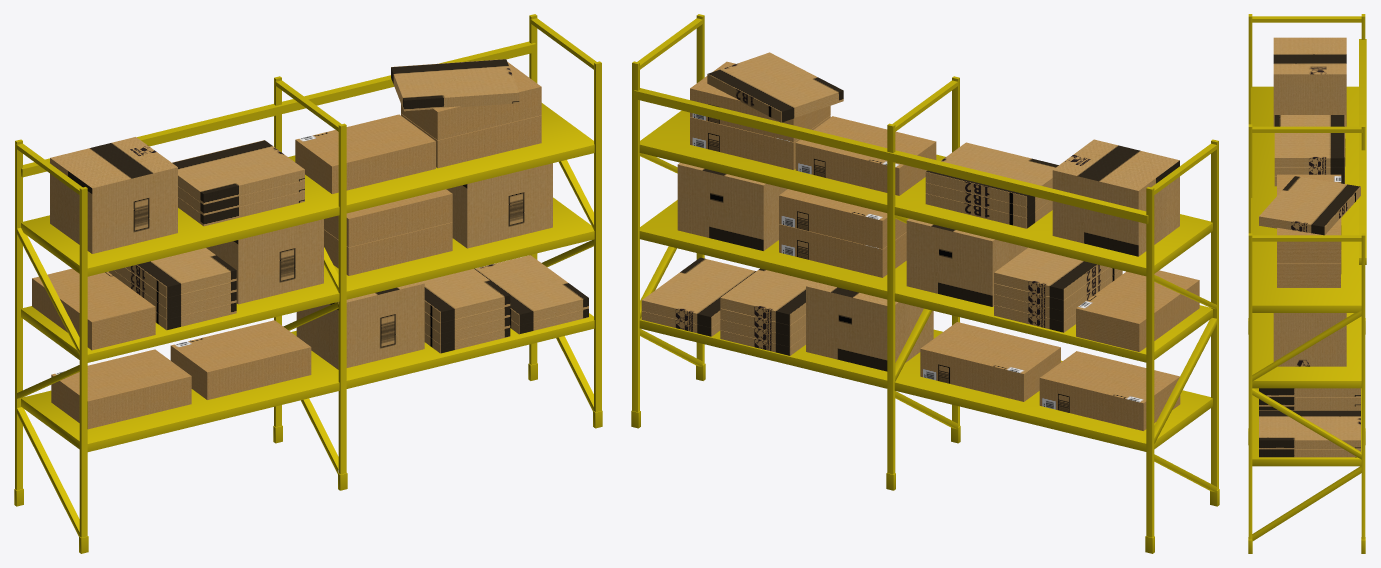
The model's file is rack_e.glb.
3 renders of one model, left to right at view 1: azimuth 30°, elevation 25°; view 2: azimuth 150°, elevation 25°; view 3: azimuth 270°, elevation 25°, orthographic. The views are drawn at different scales.
Visible parts, largest first — view 1: aws_robomaker_warehouse_ShelfE_01_visual-lib, aws_robomaker_warehouse_ShelfE_01_visual-lib_2, aws_robomaker_warehouse_ShelfE_01_visual-lib_1, aws_robomaker_warehouse_ShelfE_01_visual-lib_3; view 2: aws_robomaker_warehouse_ShelfE_01_visual-lib, aws_robomaker_warehouse_ShelfE_01_visual-lib_2, aws_robomaker_warehouse_ShelfE_01_visual-lib_1, aws_robomaker_warehouse_ShelfE_01_visual-lib_3; view 3: aws_robomaker_warehouse_ShelfE_01_visual-lib, aws_robomaker_warehouse_ShelfE_01_visual-lib_3, aws_robomaker_warehouse_ShelfE_01_visual-lib_1, aws_robomaker_warehouse_ShelfE_01_visual-lib_2.
Part boxes in pixels (x1,y1,x2,y2): aws_robomaker_warehouse_ShelfE_01_visual-lib: [14, 14, 602, 553]; aws_robomaker_warehouse_ShelfE_01_visual-lib_2: [32, 62, 541, 429]; aws_robomaker_warehouse_ShelfE_01_visual-lib_1: [50, 137, 552, 369]; aws_robomaker_warehouse_ShelfE_01_visual-lib_3: [108, 59, 588, 353]; aws_robomaker_warehouse_ShelfE_01_visual-lib: [631, 14, 1219, 553]; aws_robomaker_warehouse_ShelfE_01_visual-lib_2: [690, 61, 1199, 430]; aws_robomaker_warehouse_ShelfE_01_visual-lib_1: [677, 139, 1179, 371]; aws_robomaker_warehouse_ShelfE_01_visual-lib_3: [641, 52, 1122, 355]; aws_robomaker_warehouse_ShelfE_01_visual-lib: [1248, 14, 1366, 553]; aws_robomaker_warehouse_ShelfE_01_visual-lib_3: [1259, 115, 1360, 457]; aws_robomaker_warehouse_ShelfE_01_visual-lib_1: [1273, 37, 1346, 366]; aws_robomaker_warehouse_ShelfE_01_visual-lib_2: [1277, 174, 1341, 287].
Size of the model in its own units: 3.92 by 2.61 by 0.8795.
3 materials, 3 textured.
